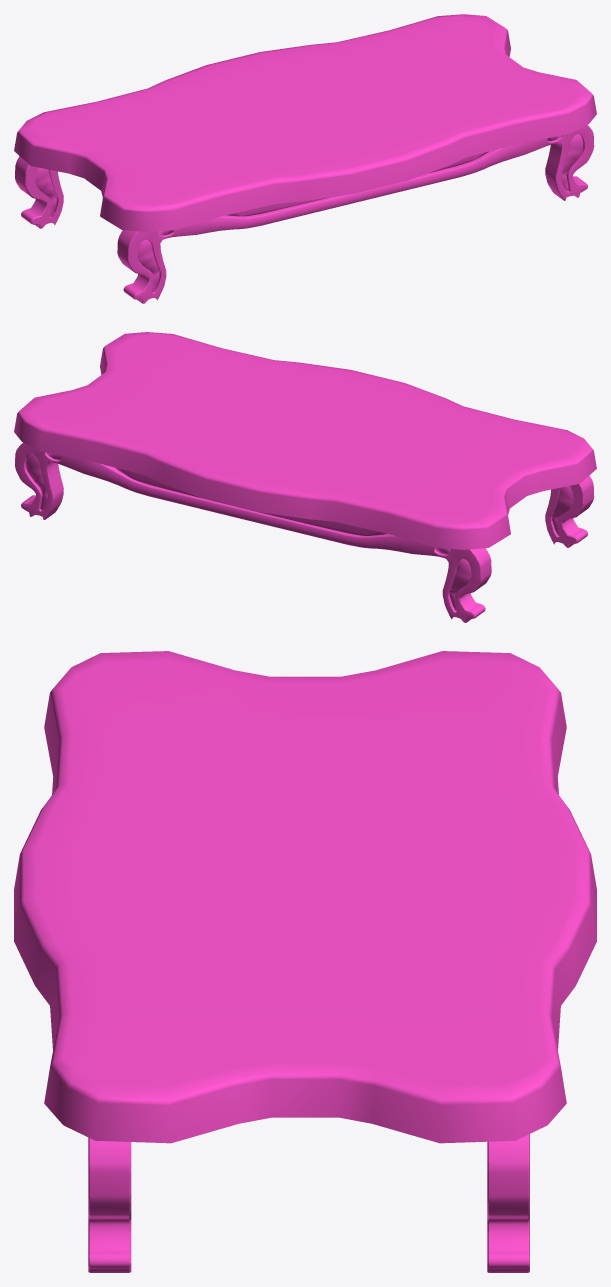
The model's file is ENV_HAU_SMALLTABLE_MODEL.fbx.
3 views of the same model, one above another, from view 1: azimuth 30°, elevation 25°; view 2: azimuth 150°, elevation 25°; view 3: azimuth 270°, elevation 25° (orthographic). The views are drawn at different scales.
Visible parts, largest first — view 1: ENV_HAU_SMALLTABLE_MODEL; view 2: ENV_HAU_SMALLTABLE_MODEL; view 3: ENV_HAU_SMALLTABLE_MODEL.
Boxes of the visible parts, x1,y1,x2,y2 form: ENV_HAU_SMALLTABLE_MODEL: (14, 14, 596, 303); ENV_HAU_SMALLTABLE_MODEL: (14, 332, 596, 622); ENV_HAU_SMALLTABLE_MODEL: (14, 651, 596, 1272).
Size of the model in its own units: 201 by 39.73 by 109.
